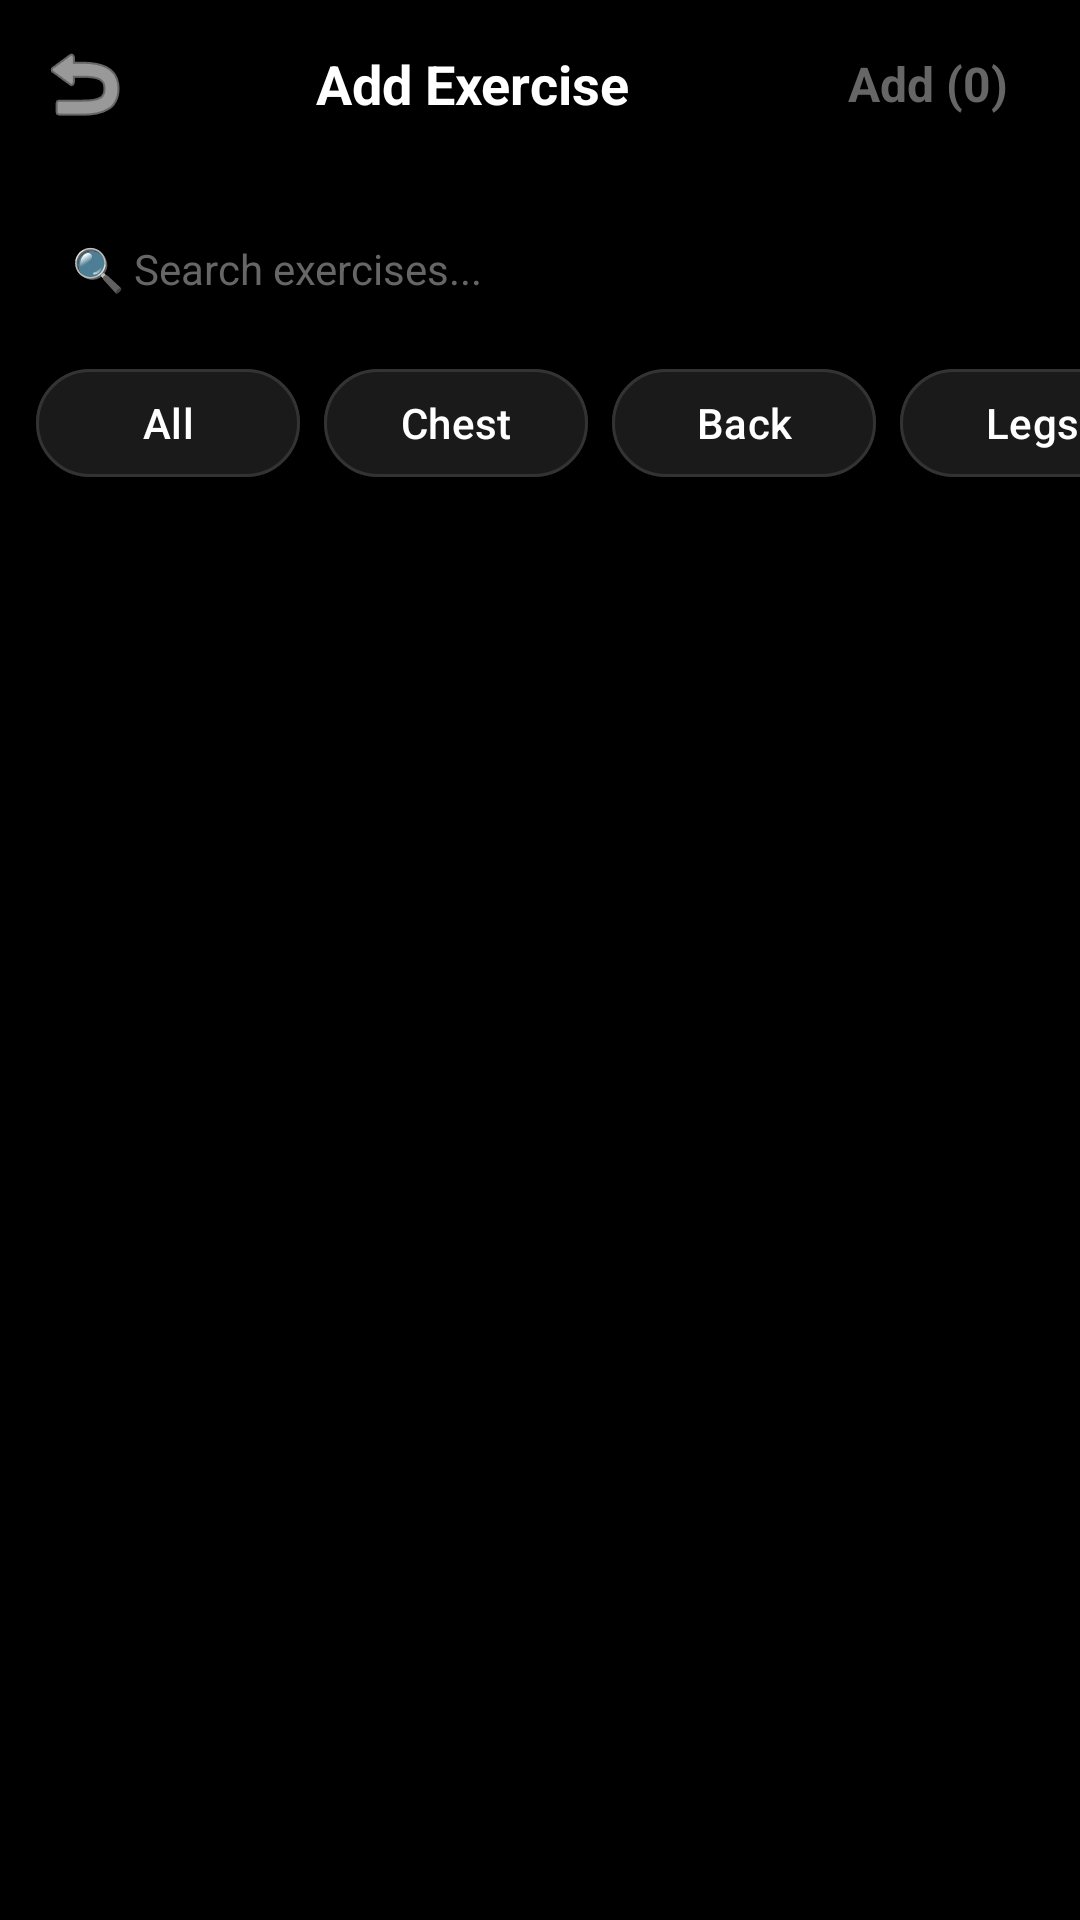

Where to tap for icons on this 1080*1920 app screen, as (x,y):
revert: (85,84)
